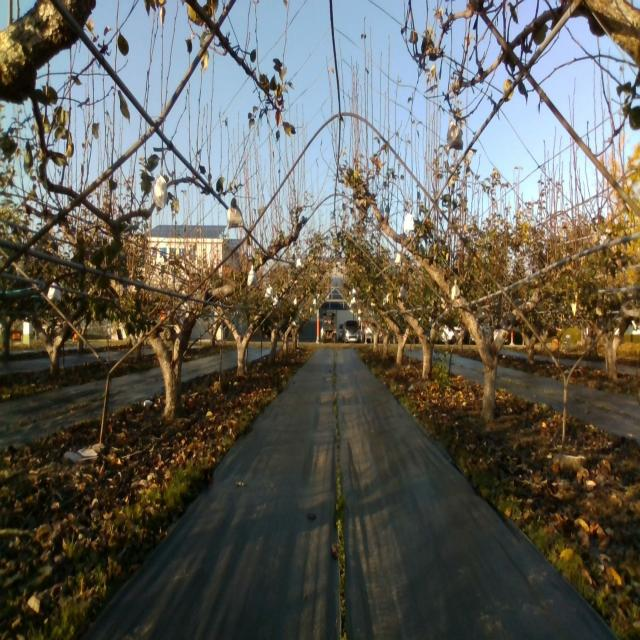pearbags: (226, 197, 245, 228), (445, 121, 464, 151), (154, 174, 168, 212), (247, 265, 257, 286)
